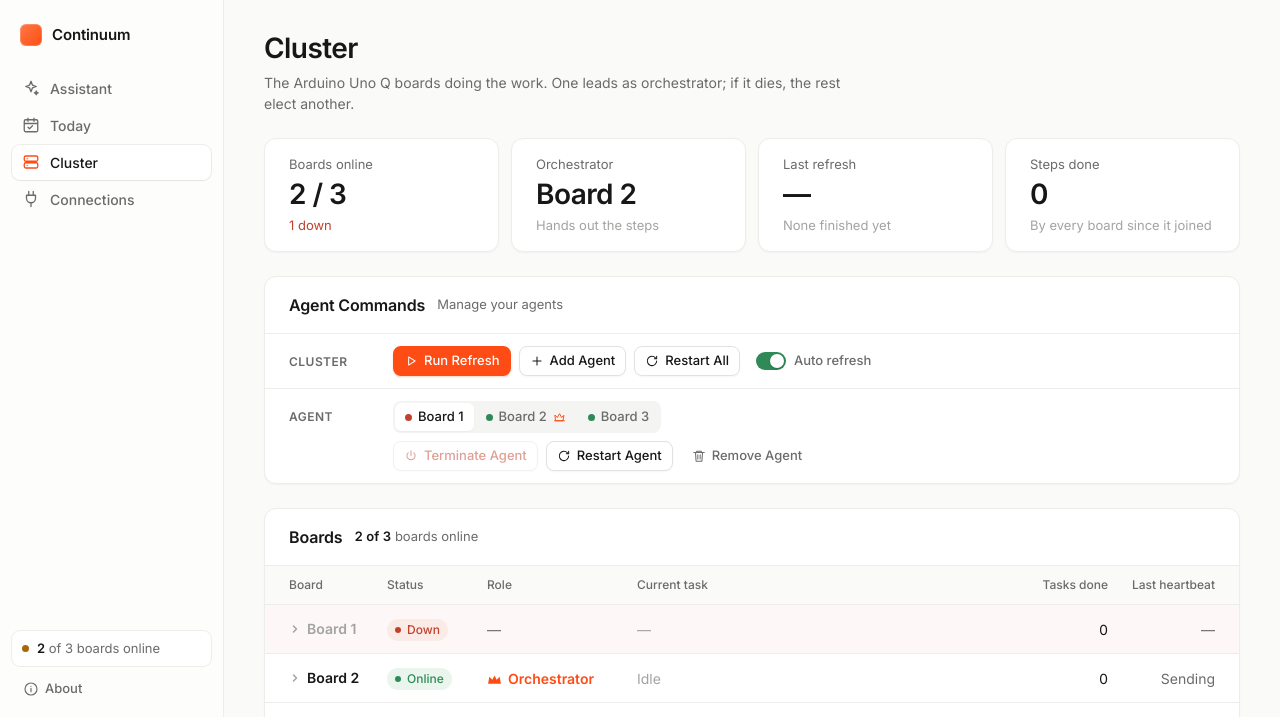
Test: Agent Commands › warns before, and says after, when a terminate leaves too few boards for Raft to elect an orchestrator
Click the button "Board 2" below "Auto refresh" at x=526, y=417, box [476,403,576,431]
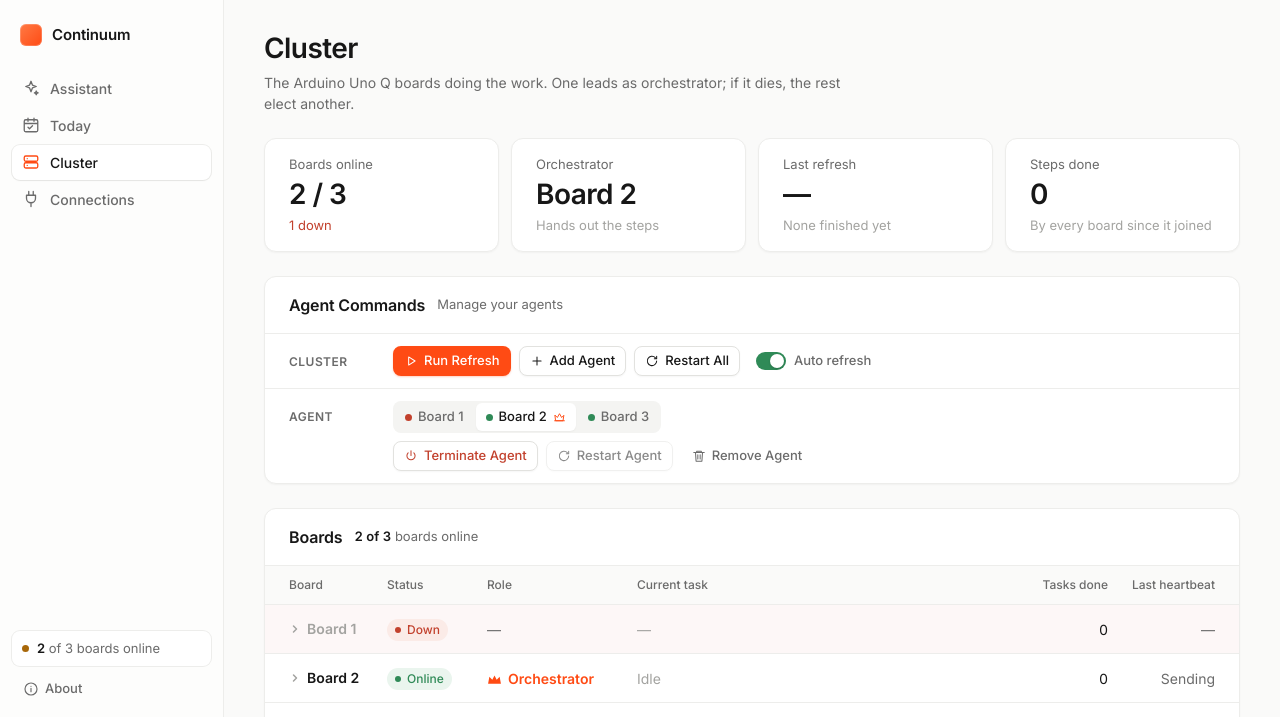
Click the button "Terminate Agent" at x=465, y=456, box [393,441,538,471]
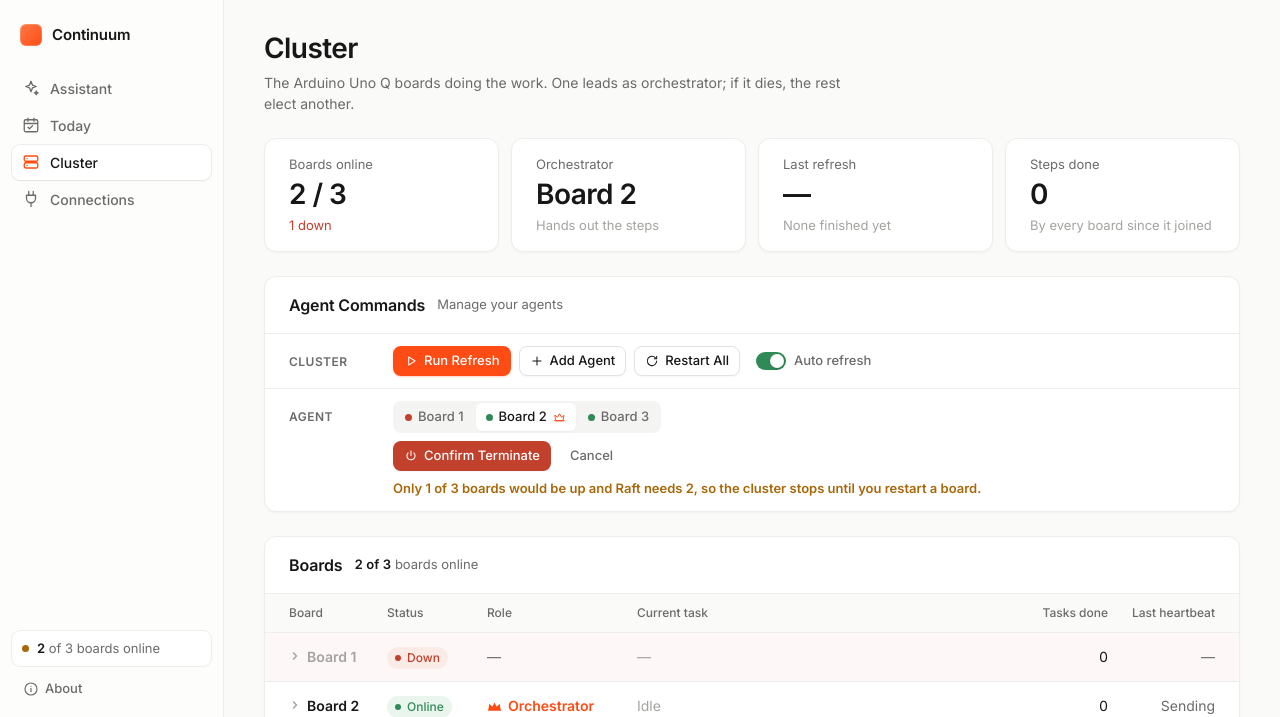
Expected: the text "Only 1 of 3 boards would be up and Raft needs 2, so the cluster stops until you restart a board." is shown, [393,480,981,496]
Click the button "Confirm Terminate" at x=472, y=456, box [393,441,551,471]
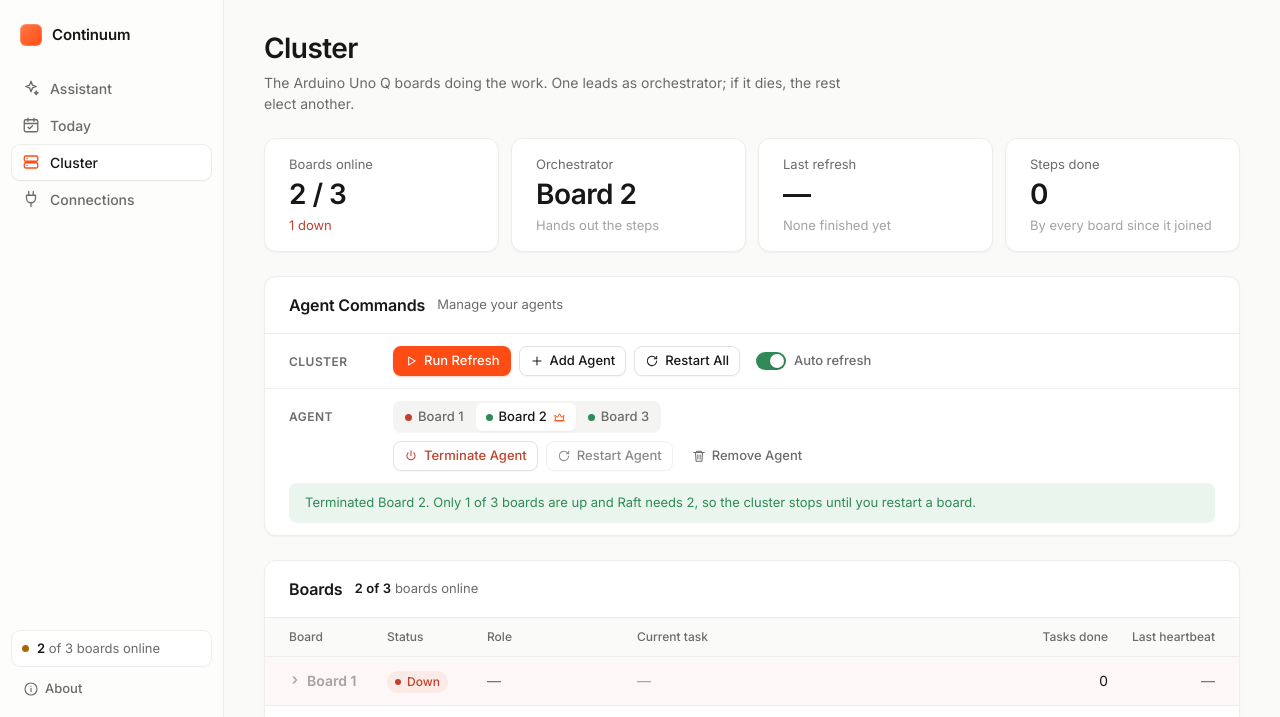
Expected: the message shows "Terminated Board 2. Only 1 of 3 boards are up and Raft needs 2, so the cluster stops until you restart a board.", [305,494,976,510]
